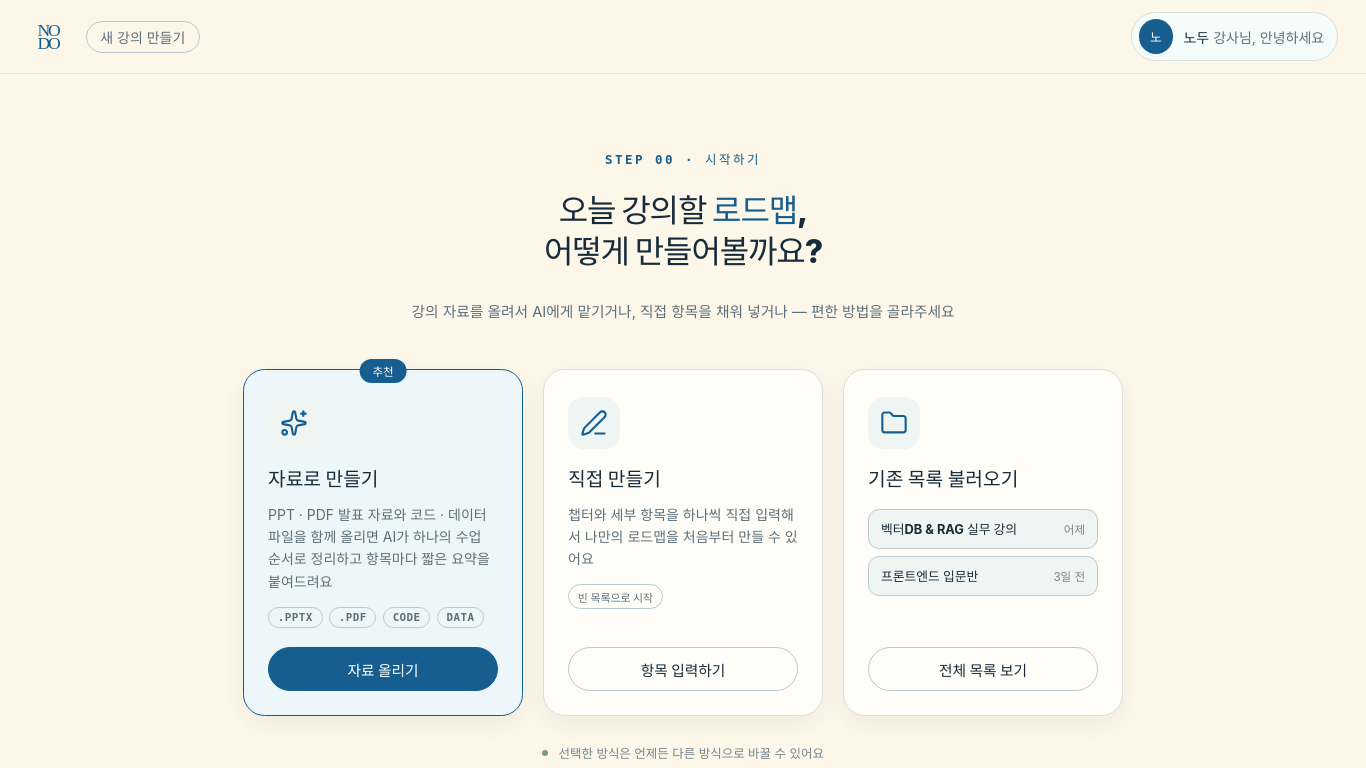
Scenario: AppRoutes › 전체 목록 보기 링크가 실제 import 화면으로 이동한다
What coordinates should you click on to do the following:
click the link "전체 목록 보기"
I would click on:
 (983, 669)
Its box is top-left (868, 647), bottom-right (1098, 691).
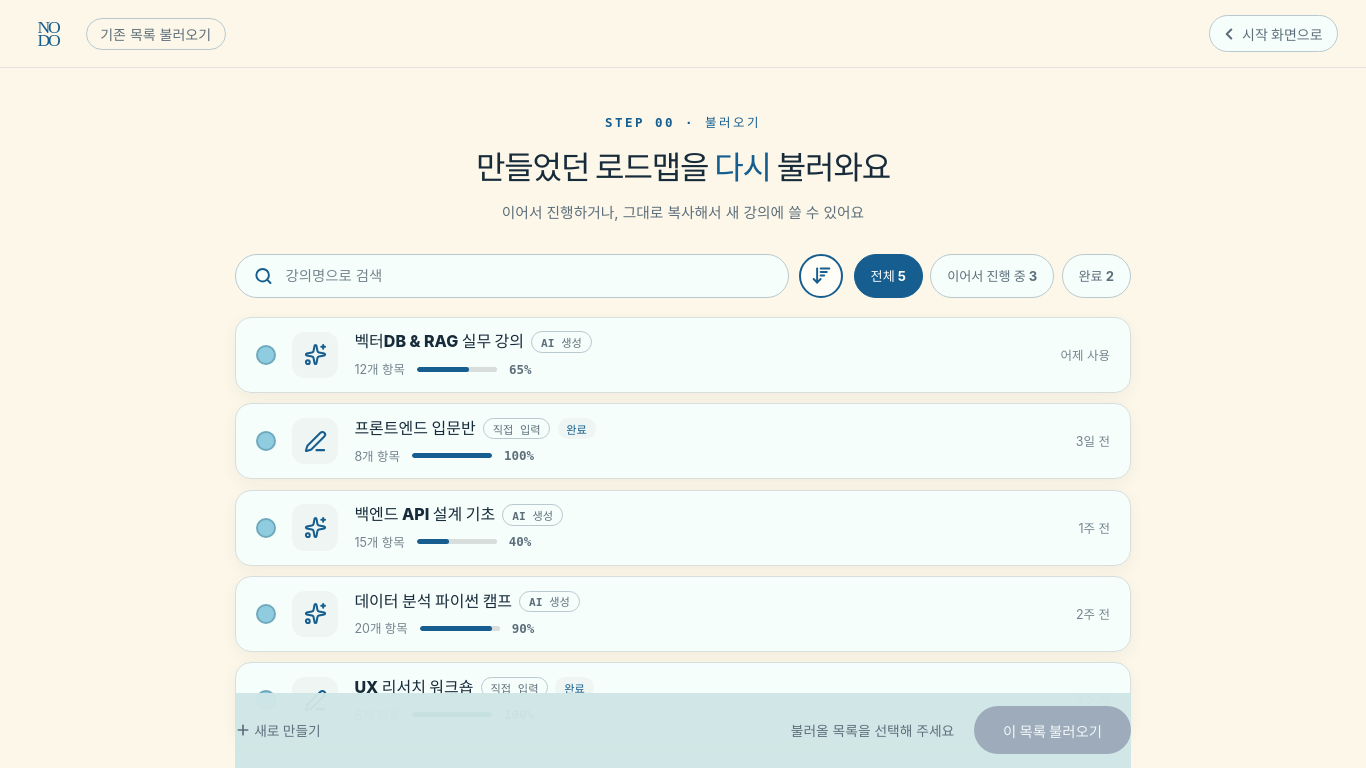
Now the heading "만들었던 로드맵을 다시 불러와요" is shown, box top-left (476, 148), bottom-right (890, 187)
